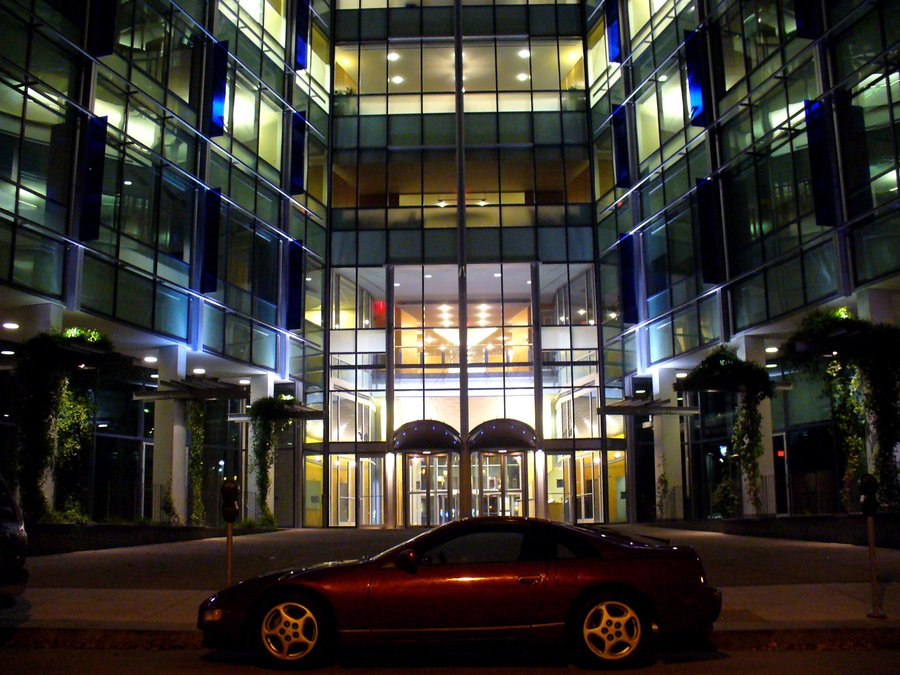car: (186, 508, 729, 673)
